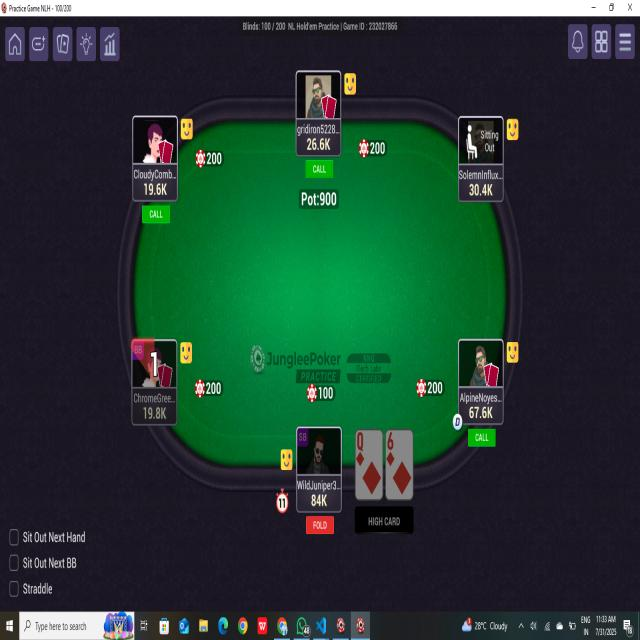card_1: (357, 432, 384, 502)
card_2: (386, 431, 412, 498)
my_stack: (305, 490, 332, 510)
total_pot: (301, 190, 339, 211)
villian_bet: (301, 384, 339, 403), (193, 377, 225, 399), (195, 147, 224, 171), (357, 138, 390, 156), (418, 380, 443, 400)
villian_name: (458, 164, 503, 184), (461, 385, 501, 404), (297, 122, 341, 139), (132, 168, 176, 182), (133, 391, 177, 405)
villian_stack: (140, 180, 173, 200), (137, 405, 172, 423), (469, 404, 496, 422), (304, 134, 334, 150)
